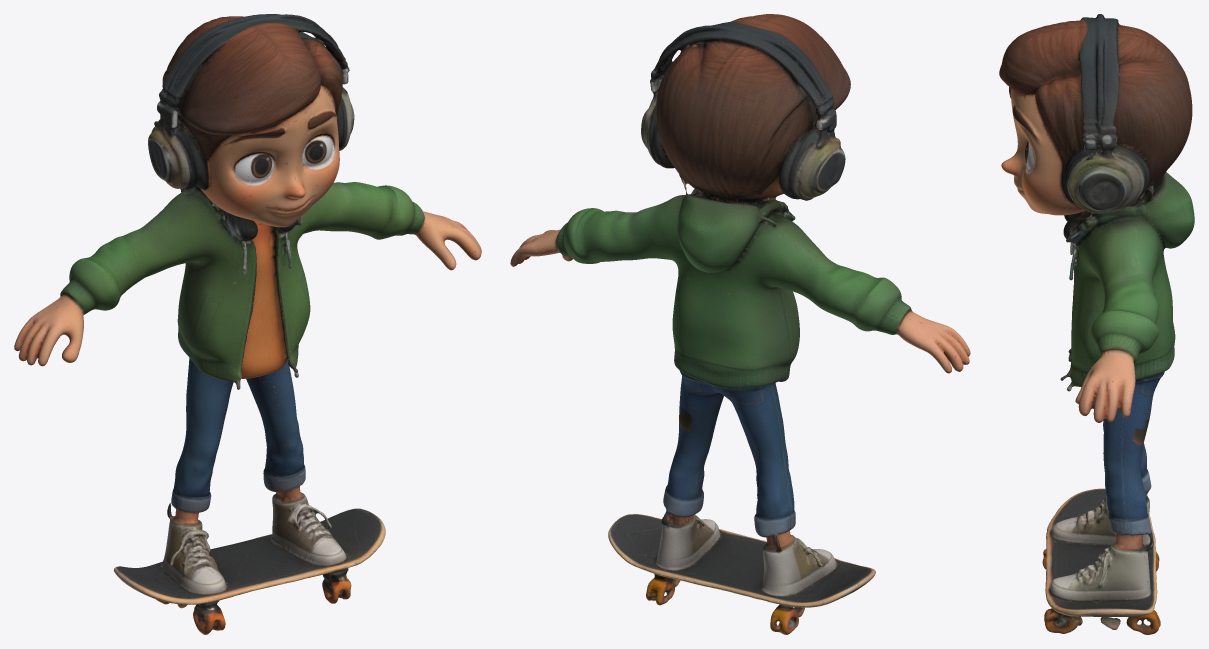
The model's file is player_game.glb.
The picture shows the model from 3 angles, left to right: view 1: azimuth 30°, elevation 25°; view 2: azimuth 150°, elevation 25°; view 3: azimuth 270°, elevation 25°; orthographic projection. The views are drawn at different scales.
Bounding box in the file's own units: 1.64 × 2 × 0.6175.
1 material, 1 textured.
